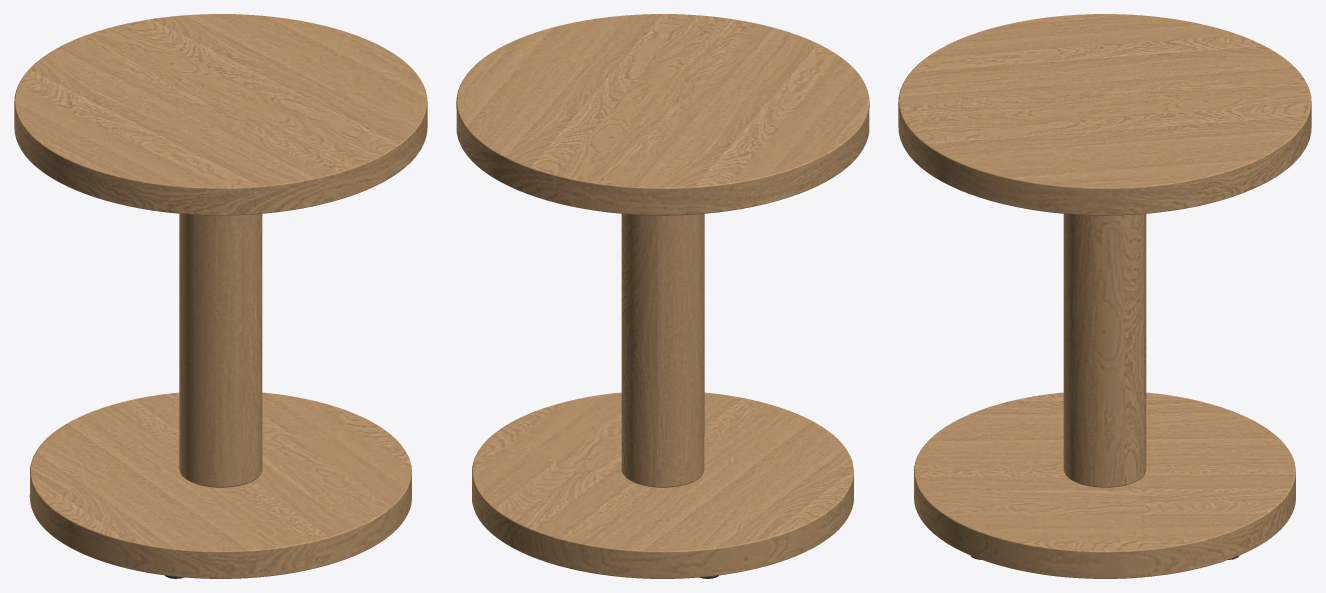
3 renders of one model, left to right at view 1: azimuth 30°, elevation 25°; view 2: azimuth 150°, elevation 25°; view 3: azimuth 270°, elevation 25°, orthographic.
Parts seen in each view (by area): view 1: id:844330fa-67e7-4de7-bba1-c90ab00ae6ee:70586564[table]; view 2: id:844330fa-67e7-4de7-bba1-c90ab00ae6ee:70586564[table]; view 3: id:844330fa-67e7-4de7-bba1-c90ab00ae6ee:70586564[table].
Boxes of the visible parts, box(x1,y1,x2,y2) form: id:844330fa-67e7-4de7-bba1-c90ab00ae6ee:70586564[table]: box(14, 14, 427, 578); id:844330fa-67e7-4de7-bba1-c90ab00ae6ee:70586564[table]: box(456, 14, 869, 578); id:844330fa-67e7-4de7-bba1-c90ab00ae6ee:70586564[table]: box(898, 14, 1311, 578).
Size of the model in its own units: 0.4 by 0.43 by 0.4.
Materials: 1 (1 with a texture image).
